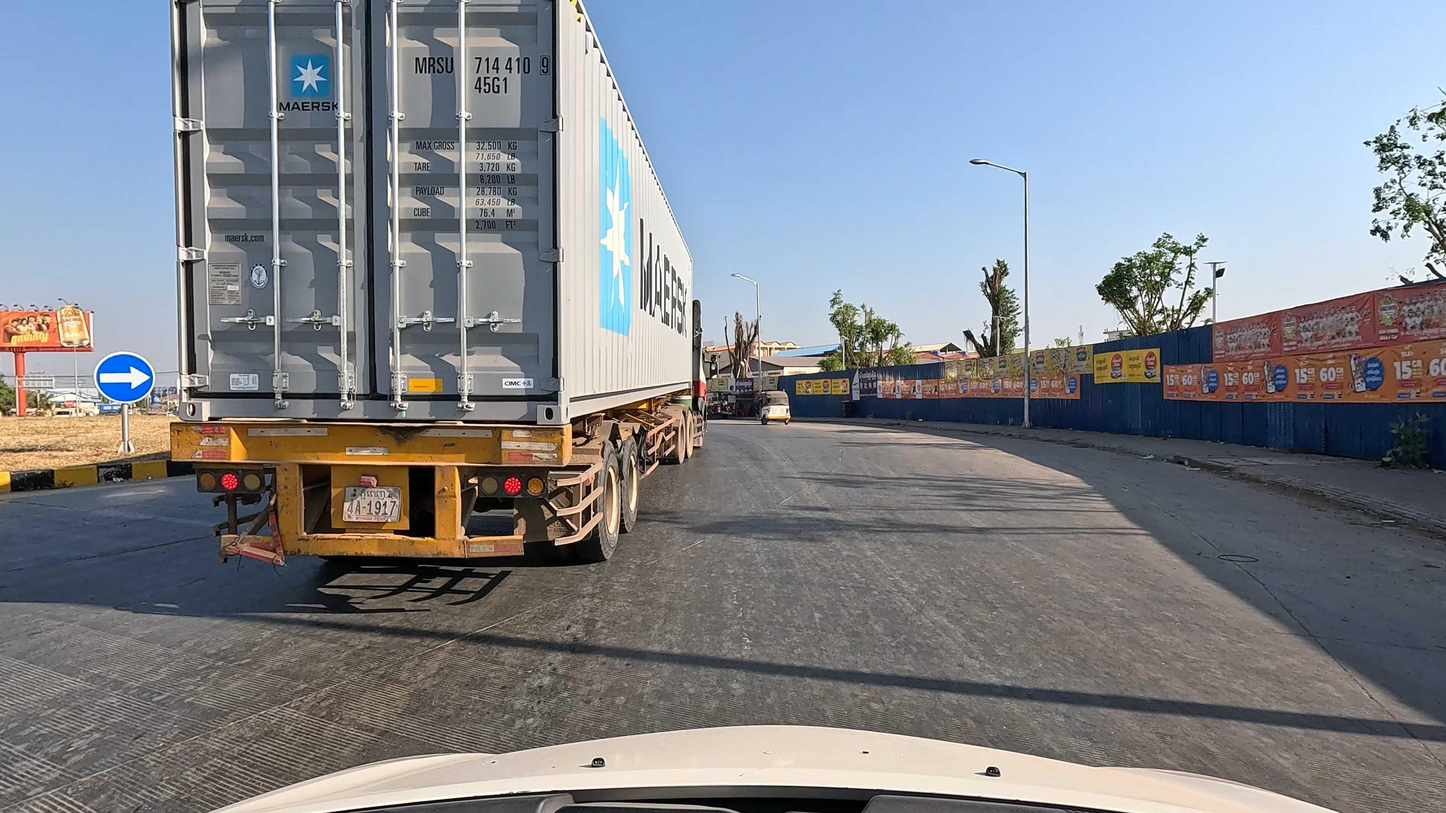turn_right: (93, 352, 157, 405)
